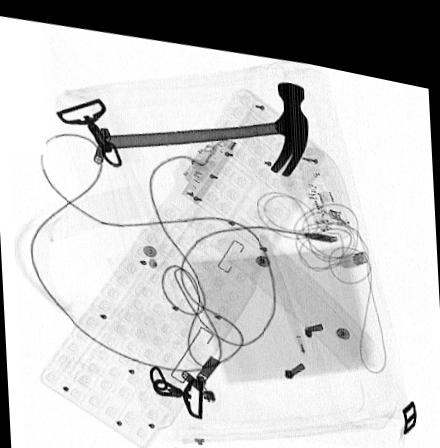Hammer: (105, 69, 309, 165)
